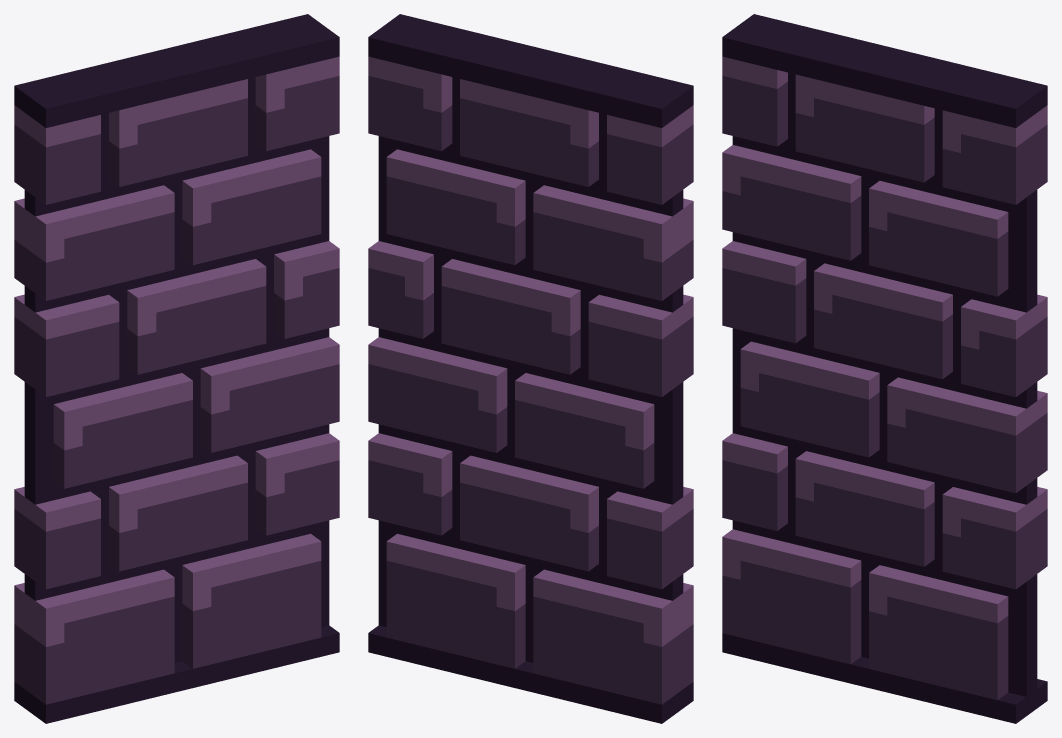
Rendered from wall_raised.obj.
The picture shows the model from 3 angles, left to right: view 1: azimuth 30°, elevation 25°; view 2: azimuth 150°, elevation 25°; view 3: azimuth 330°, elevation 25°; orthographic projection.
Visible parts, largest first — view 1: wall_raised; view 2: wall_raised; view 3: wall_raised.
Part boxes in pixels (box(x1,y1,x2,y2)): wall_raised: box(14, 14, 339, 723); wall_raised: box(368, 14, 693, 723); wall_raised: box(722, 14, 1047, 723).
Bounding box in the file's own units: 6.17 × 12.34 × 1.16.
